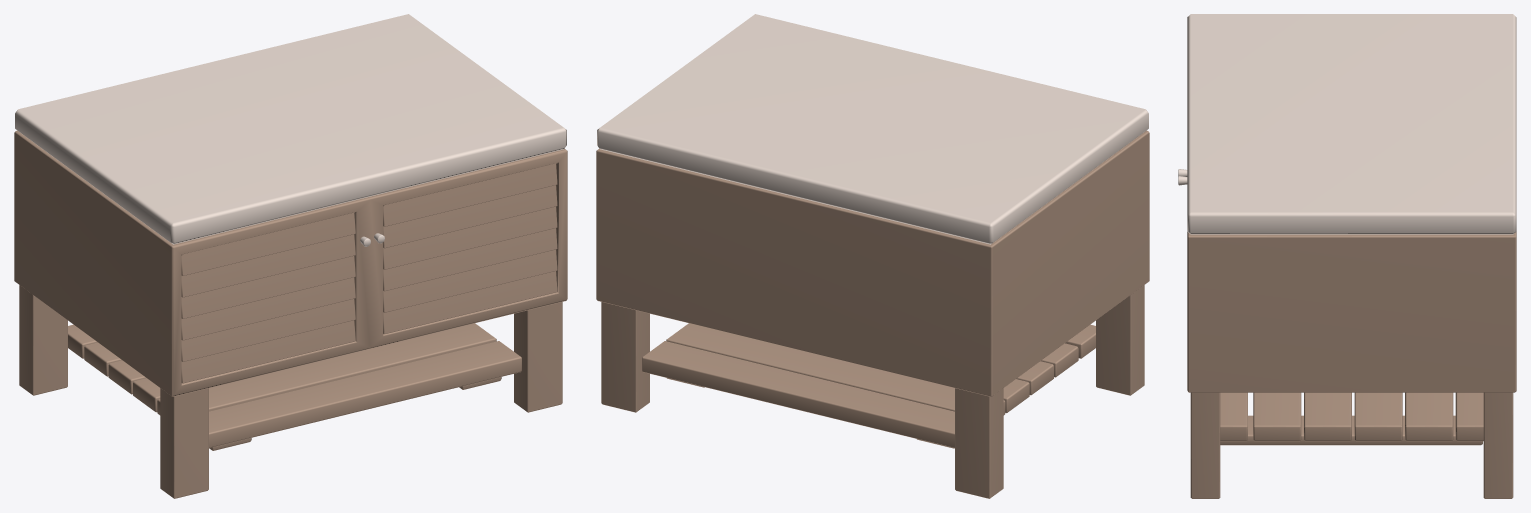
Rendered from Cabinet_1.glb.
3 renders of one model, left to right at view 1: azimuth 30°, elevation 25°; view 2: azimuth 150°, elevation 25°; view 3: azimuth 270°, elevation 25°, orthographic. The views are drawn at different scales.
Parts seen in each view (by area): view 1: Cabinet_1; view 2: Cabinet_1; view 3: Cabinet_1.
Boxes of the visible parts, x1,y1,x2,y2 form: Cabinet_1: [14, 14, 567, 498]; Cabinet_1: [596, 14, 1149, 498]; Cabinet_1: [1178, 14, 1516, 498].
Size of the model in its own units: 1.48 by 0.9872 by 1.05.
1 material, 1 textured.
